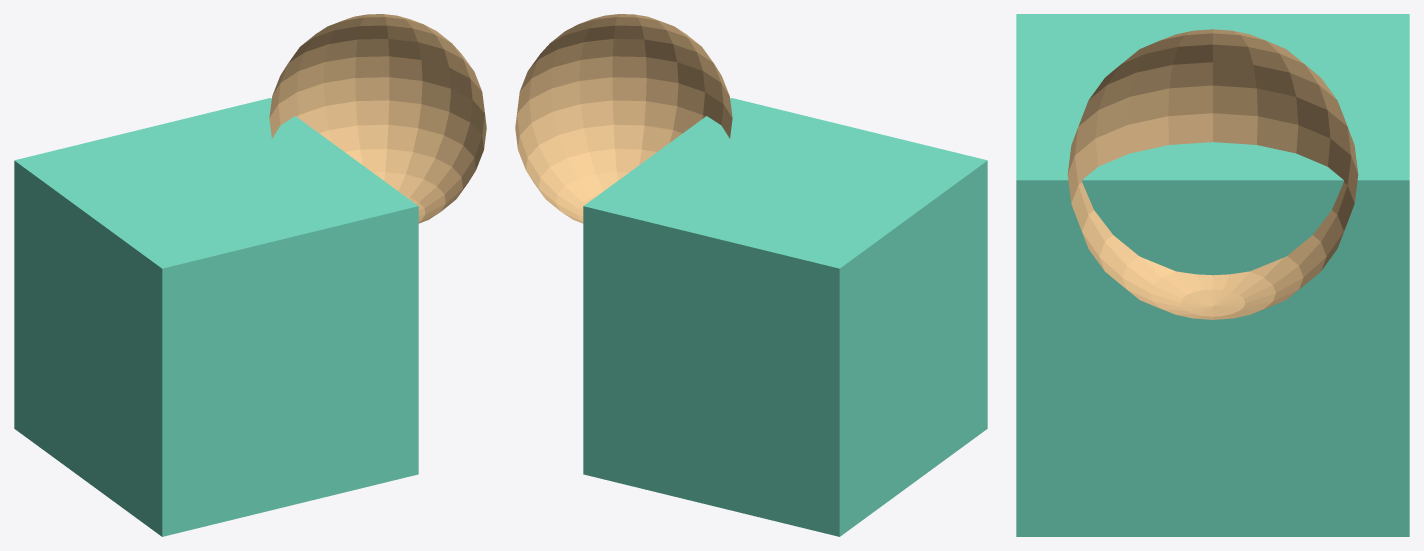
The model's file is sample.glb.
The picture shows the model from 3 angles, left to right: view 1: azimuth 30°, elevation 25°; view 2: azimuth 150°, elevation 25°; view 3: azimuth 270°, elevation 25°; orthographic projection. The views are drawn at different scales.
Bounding box in the file's own units: 1.95 × 1.88 × 1.3.
